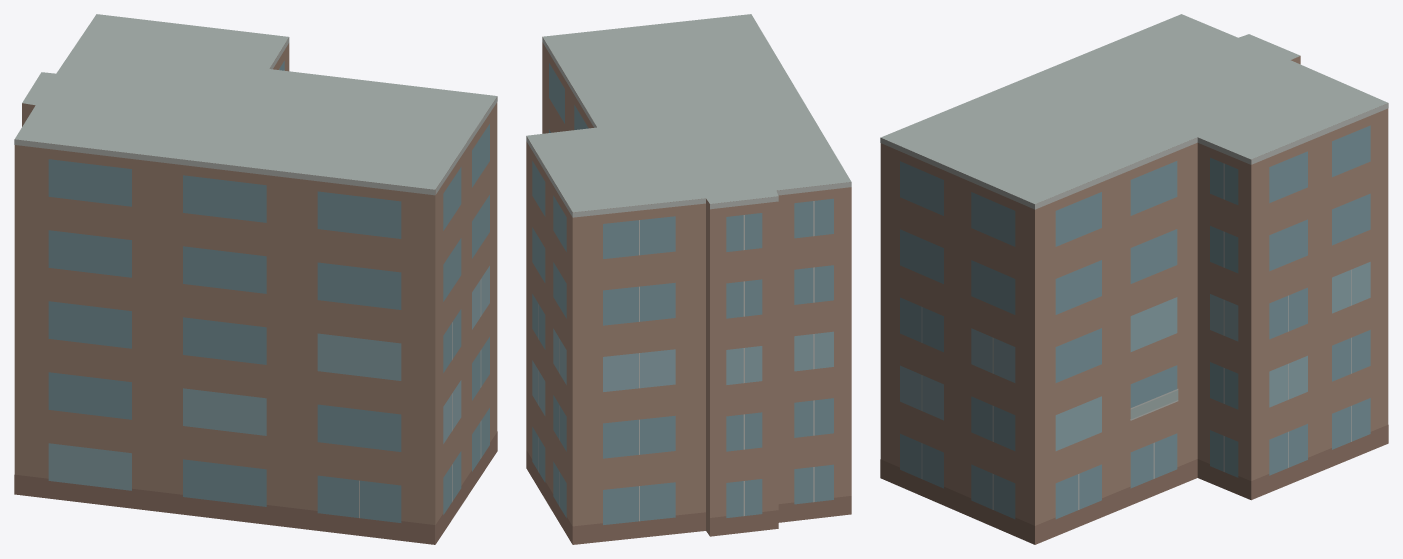
Rendered from survey-upis-32647168.glb.
3 renders of one model, left to right at view 1: azimuth 30°, elevation 25°; view 2: azimuth 150°, elevation 25°; view 3: azimuth 270°, elevation 25°, orthographic. The views are drawn at different scales.
Parts seen in each view (by area): view 1: survey-upis-32647168.tmp; view 2: survey-upis-32647168.tmp; view 3: survey-upis-32647168.tmp.
Part boxes in pixels (bbox=[...]): survey-upis-32647168.tmp: bbox=[14, 14, 497, 544]; survey-upis-32647168.tmp: bbox=[526, 14, 851, 544]; survey-upis-32647168.tmp: bbox=[880, 14, 1388, 544].
Bounding box in the file's own units: 18.58 × 15.5 × 20.96.
